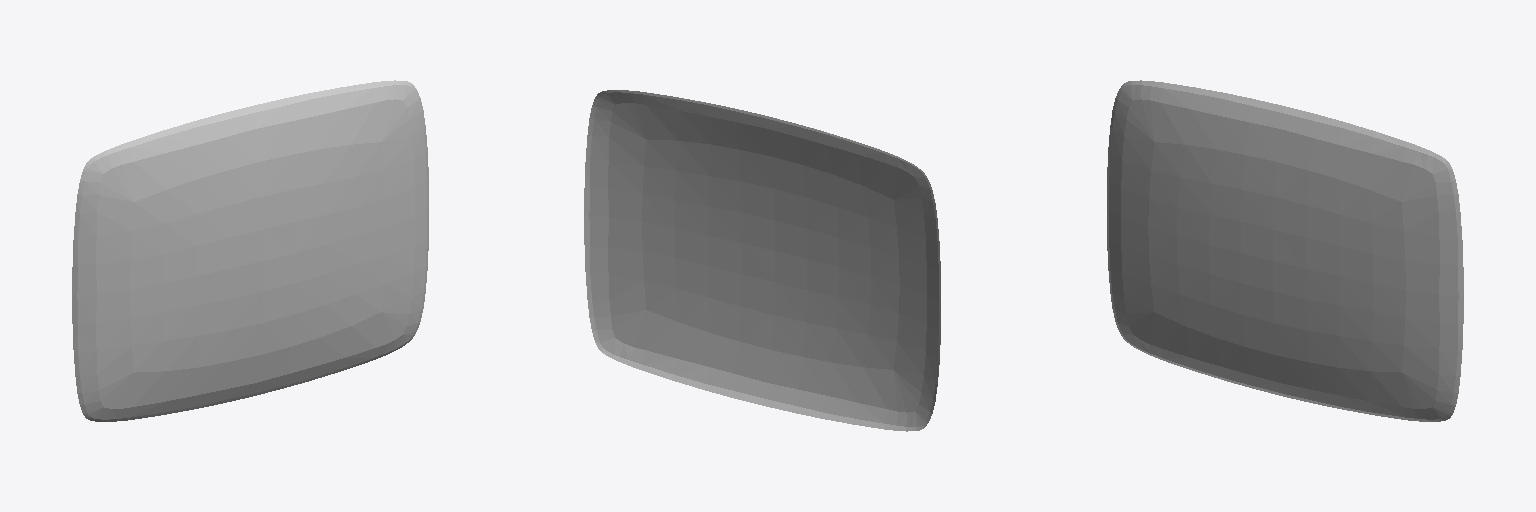
File: tv_screen.obj
The picture shows the model from 3 angles: view 1: azimuth 30°, elevation 25°; view 2: azimuth 150°, elevation 25°; view 3: azimuth 330°, elevation 25°; orthographic projection.
Visible parts, largest first — view 1: TV.001; view 2: TV.001; view 3: TV.001.
Part boxes in pixels (x1,y1,x2,y2): TV.001: (72,80,428,421); TV.001: (584,90,940,431); TV.001: (1107,80,1463,421).
Bounding box in the file's own units: 0.6654 × 0.5175 × 0.0441.